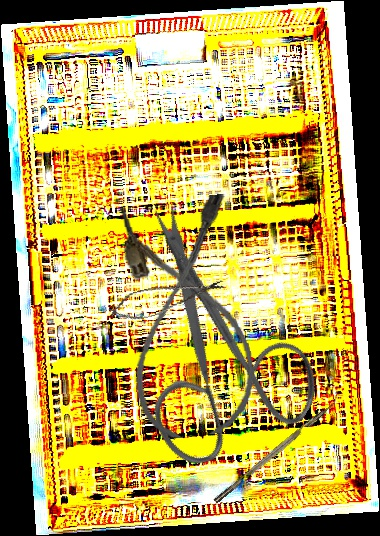Cannula: (114, 192, 261, 443)
Chopper: (208, 390, 345, 504)
Iris Scissors: (49, 195, 365, 504)
Micro Scissor: (104, 268, 229, 328)
